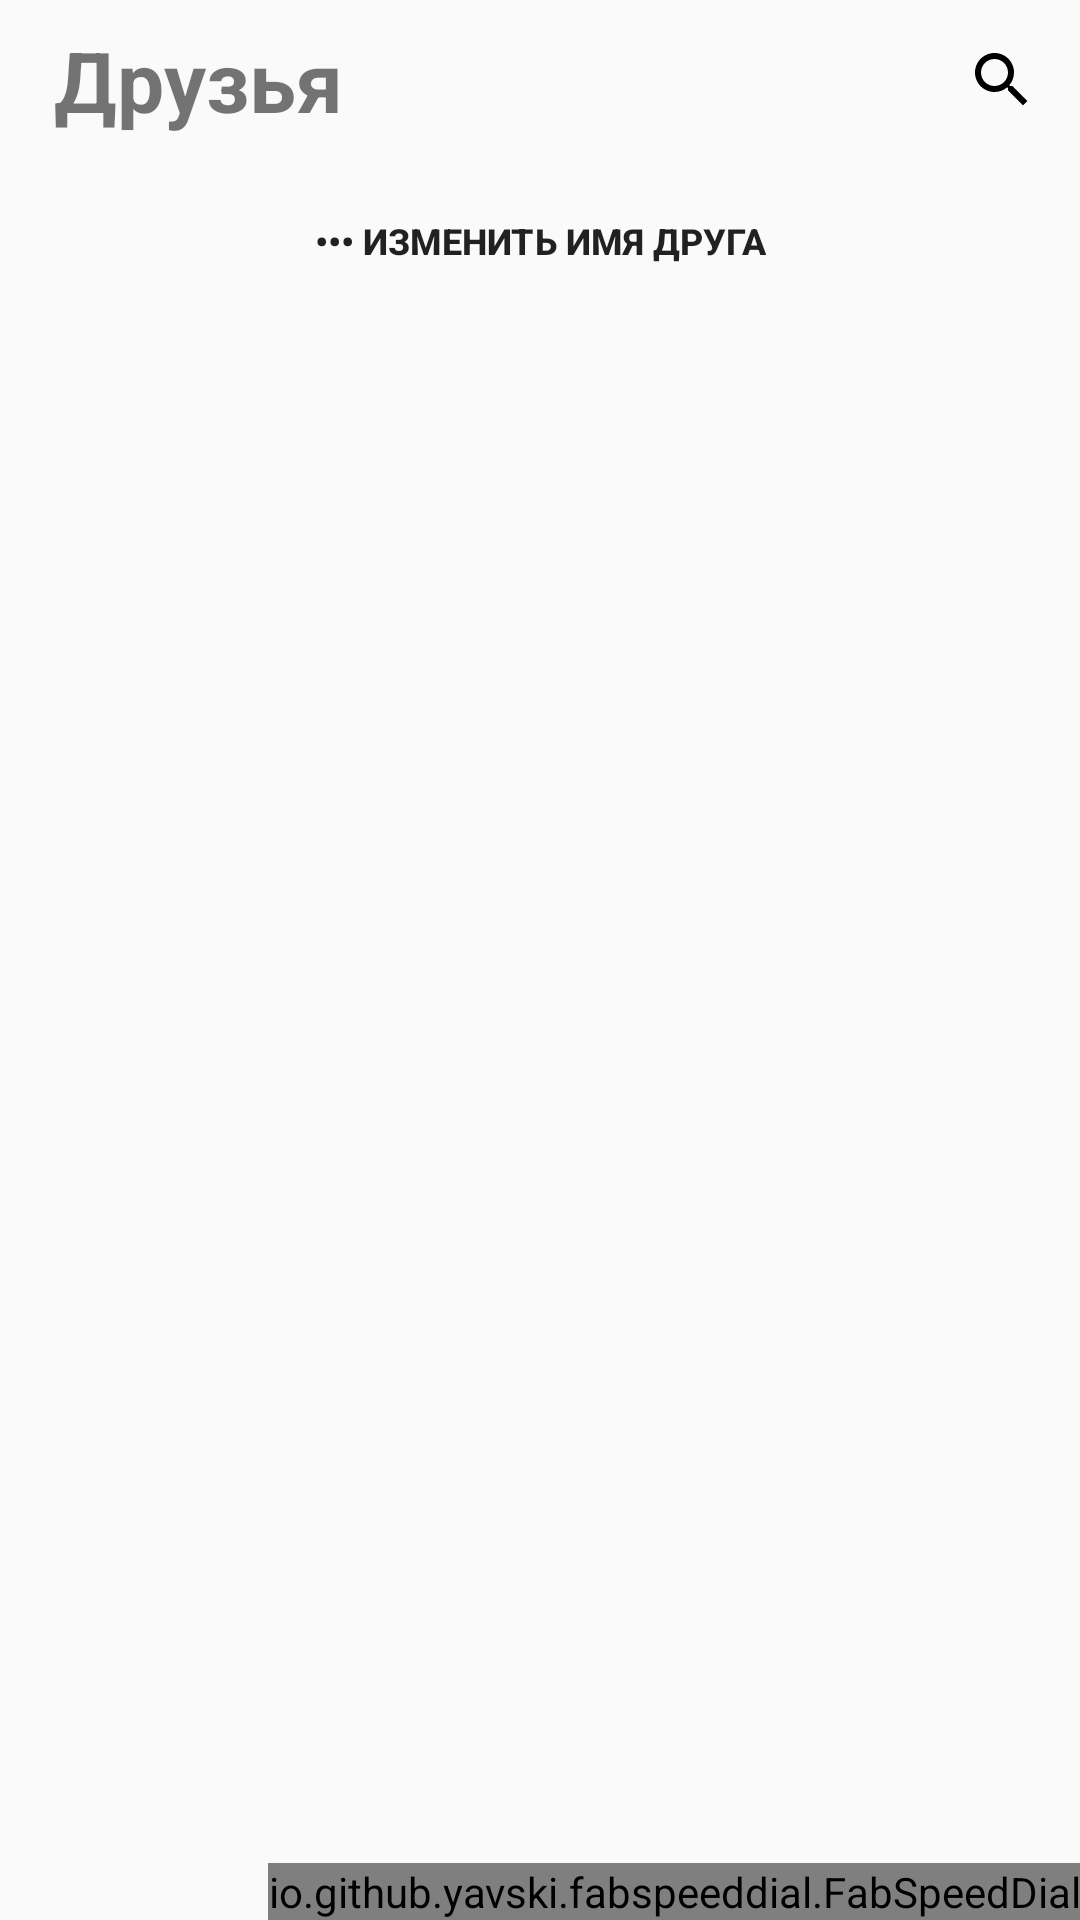

Point at icon controls on the screen. Image size 1080 × 1920, points as (x,y).
search: (1001,79)
